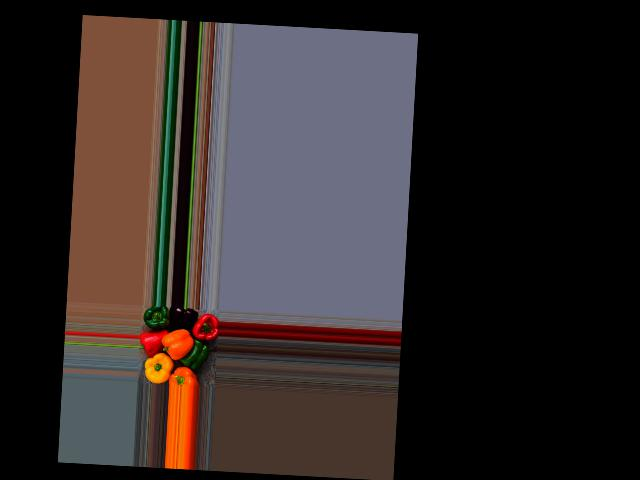bell_pepper: (169, 359, 207, 386)
